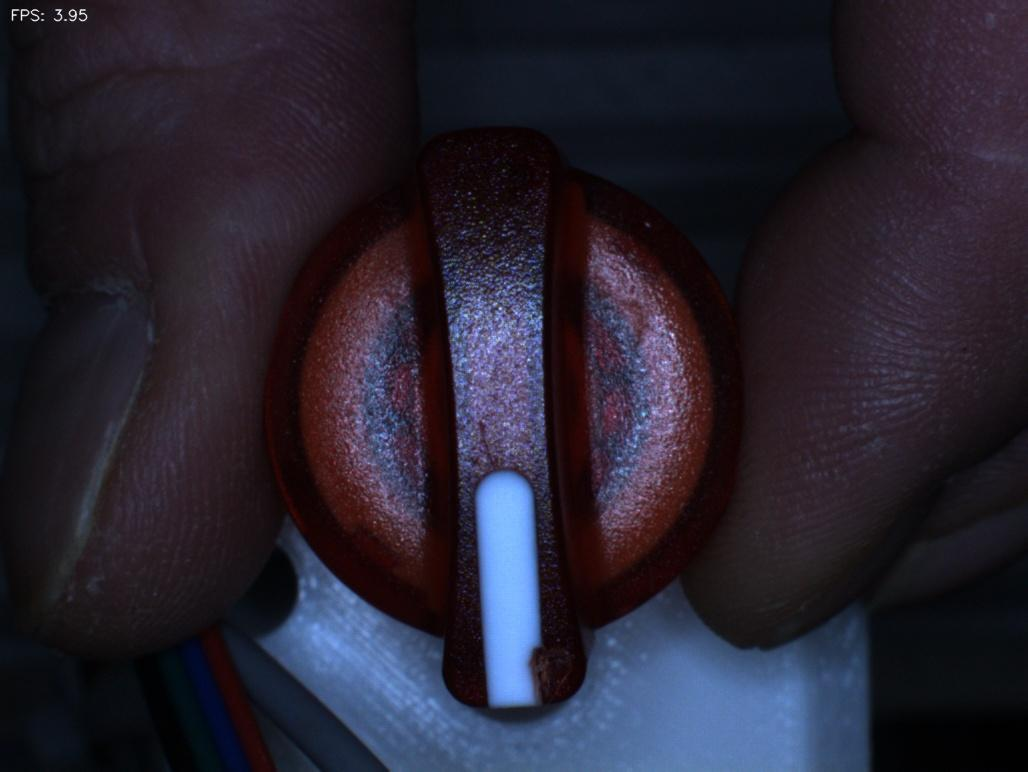Choc: (499, 601, 602, 724)
